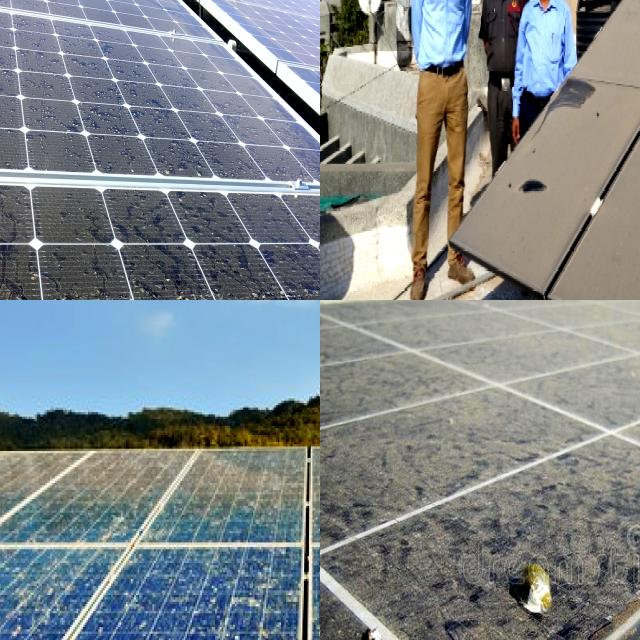bird: (492, 557, 579, 630), (351, 621, 395, 640)
dust: (142, 201, 316, 300), (512, 154, 612, 292), (0, 185, 102, 300), (72, 54, 198, 139), (0, 46, 94, 137), (552, 88, 630, 144)
